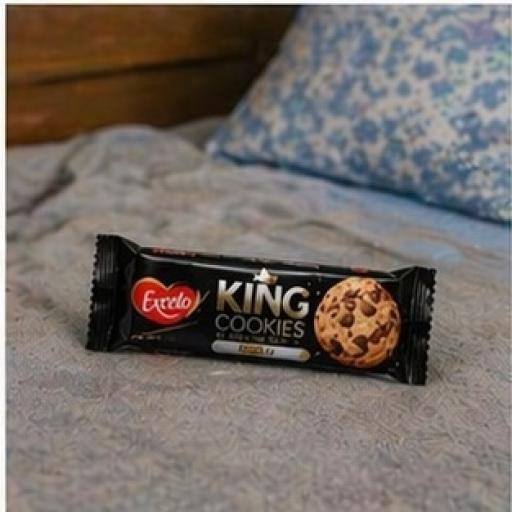king-cooking: (30, 180, 462, 411)
